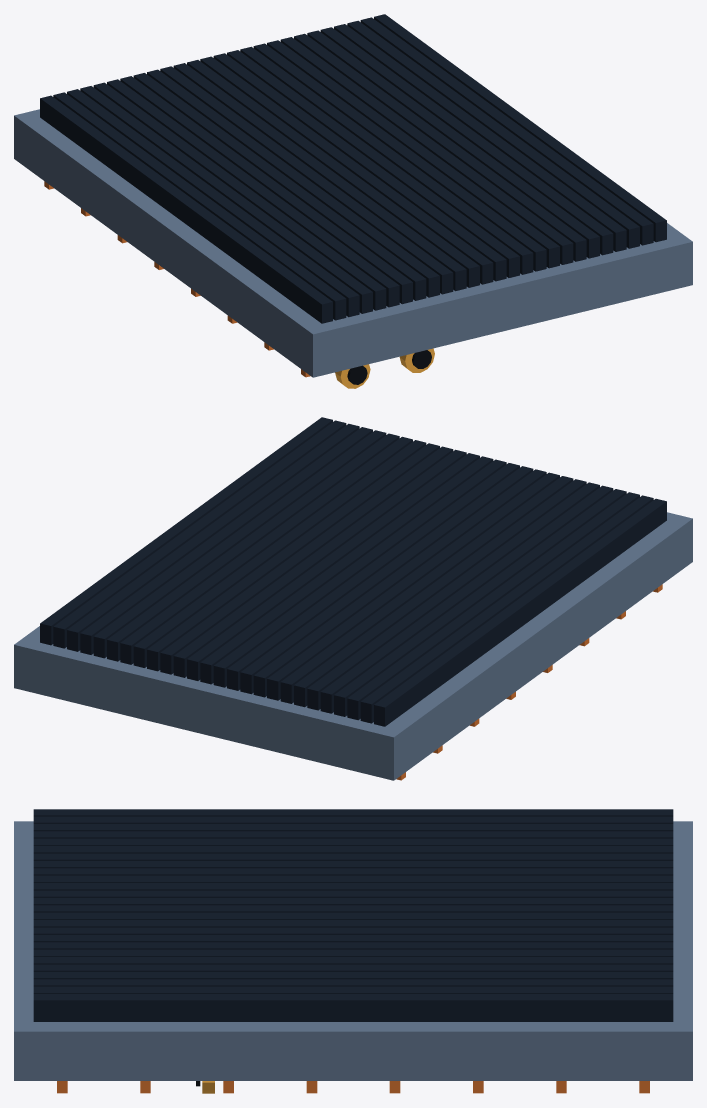
File: 77_L90_ThrusterHeatRejectionRadiator.fbx
3 views of the same model, one above another, from view 1: azimuth 30°, elevation 25°; view 2: azimuth 150°, elevation 25°; view 3: azimuth 270°, elevation 25° (orthographic). The views are drawn at different scales.
Visible parts, largest first — view 1: L90_ThrusterHeatRejectionRadiator_Part_0001, L90_ThrusterHeatRejectionRadiator_Part_0000, L90_ThrusterHeatRejectionRadiator_Part_0002; view 2: L90_ThrusterHeatRejectionRadiator_Part_0001, L90_ThrusterHeatRejectionRadiator_Part_0000, L90_ThrusterHeatRejectionRadiator_Part_0002; view 3: L90_ThrusterHeatRejectionRadiator_Part_0001, L90_ThrusterHeatRejectionRadiator_Part_0000, L90_ThrusterHeatRejectionRadiator_Part_0002, L90_ThrusterHeatRejectionRadiator_Part_0003.
Part boxes in pixels (<box>): L90_ThrusterHeatRejectionRadiator_Part_0001: <box>40,37,573,323</box>; L90_ThrusterHeatRejectionRadiator_Part_0000: <box>14,109,692,377</box>; L90_ThrusterHeatRejectionRadiator_Part_0002: <box>294,14,666,261</box>; L90_ThrusterHeatRejectionRadiator_Part_0001: <box>133,440,666,726</box>; L90_ThrusterHeatRejectionRadiator_Part_0000: <box>14,512,692,780</box>; L90_ThrusterHeatRejectionRadiator_Part_0002: <box>40,417,412,664</box>; L90_ThrusterHeatRejectionRadiator_Part_0001: <box>33,809,673,949</box>; L90_ThrusterHeatRejectionRadiator_Part_0000: <box>14,821,692,1080</box>; L90_ThrusterHeatRejectionRadiator_Part_0002: <box>33,949,673,1021</box>; L90_ThrusterHeatRejectionRadiator_Part_0003: <box>57,1081,649,1093</box>.
Bounding box in the file's own units: 165 × 68.5 × 225.
